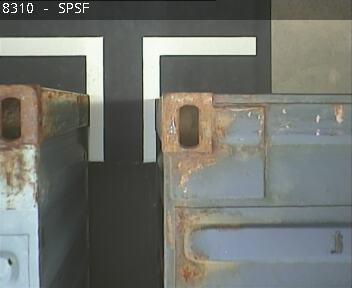groundmarker_1: (1, 34, 255, 163)
